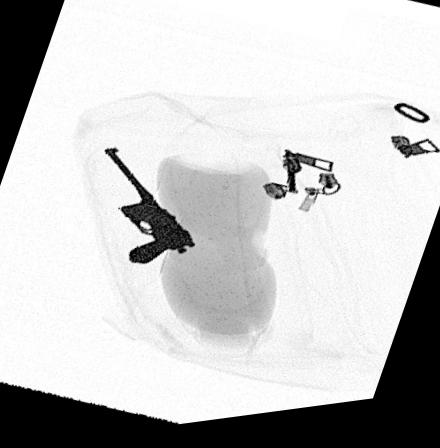Gun: (104, 150, 196, 268)
